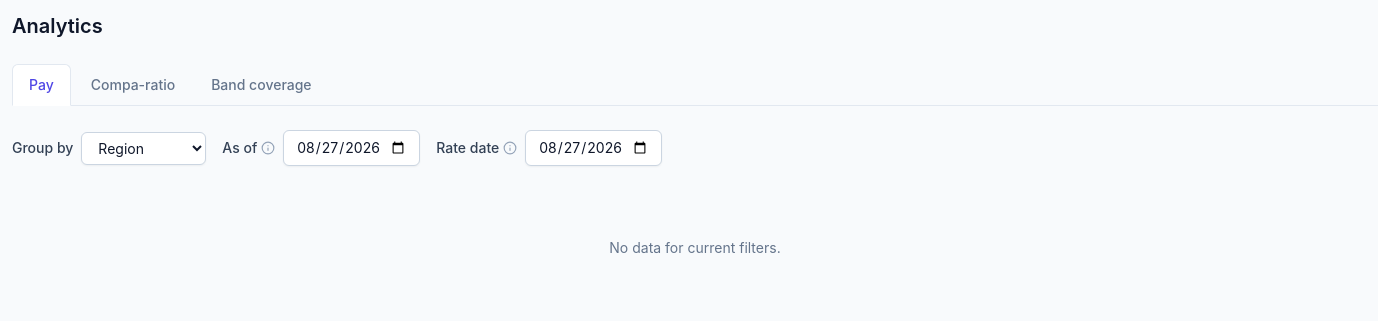
Scenario: AnalyticsDashboard › shows all-covered message when band_coverage is empty
Click the button "Band coverage". click: point(261, 84)
box: [195,64,328,105]
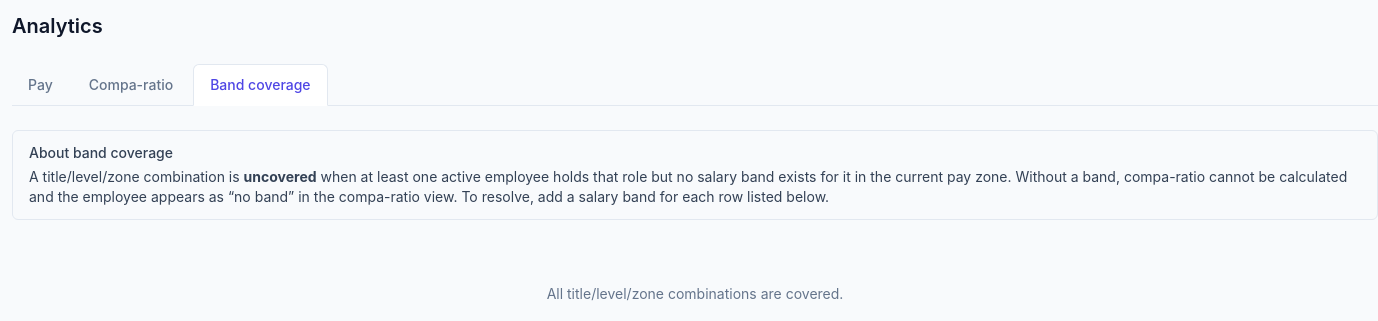
Now the text "All title/level/zone combinations are covered." is shown, box [547,284,843,304]
